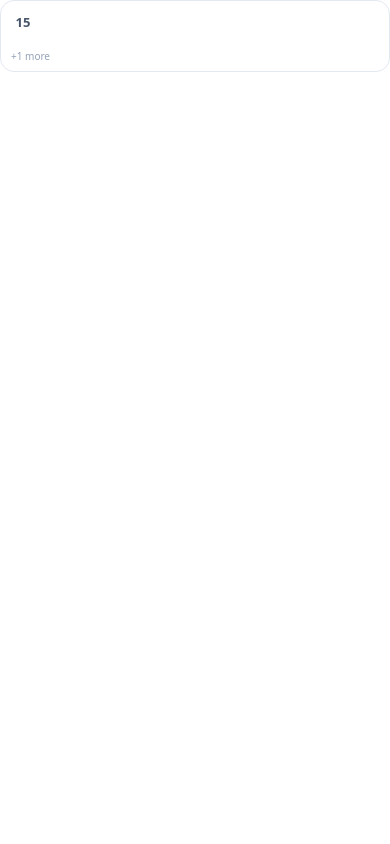
Test: MonthDays: a day tap opens the sheet at every width (#145) › opens the day action sheet on tap, whether the media query true
Click the button named "Open 01-15-2024".
click(195, 36)  # box [1,1,389,71]
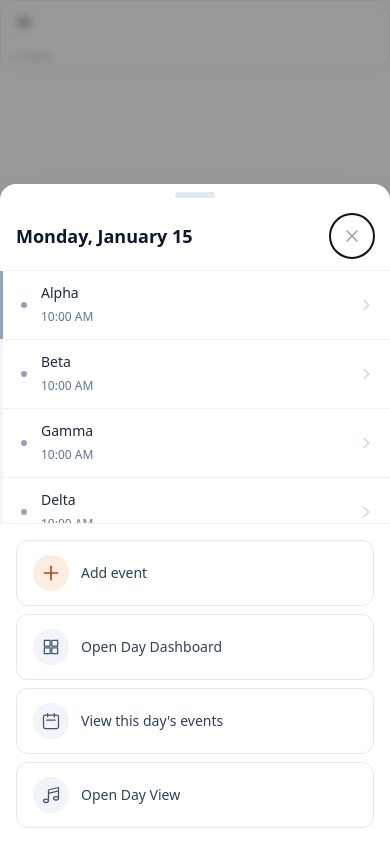
Now the dialog named "Day actions" is shown
